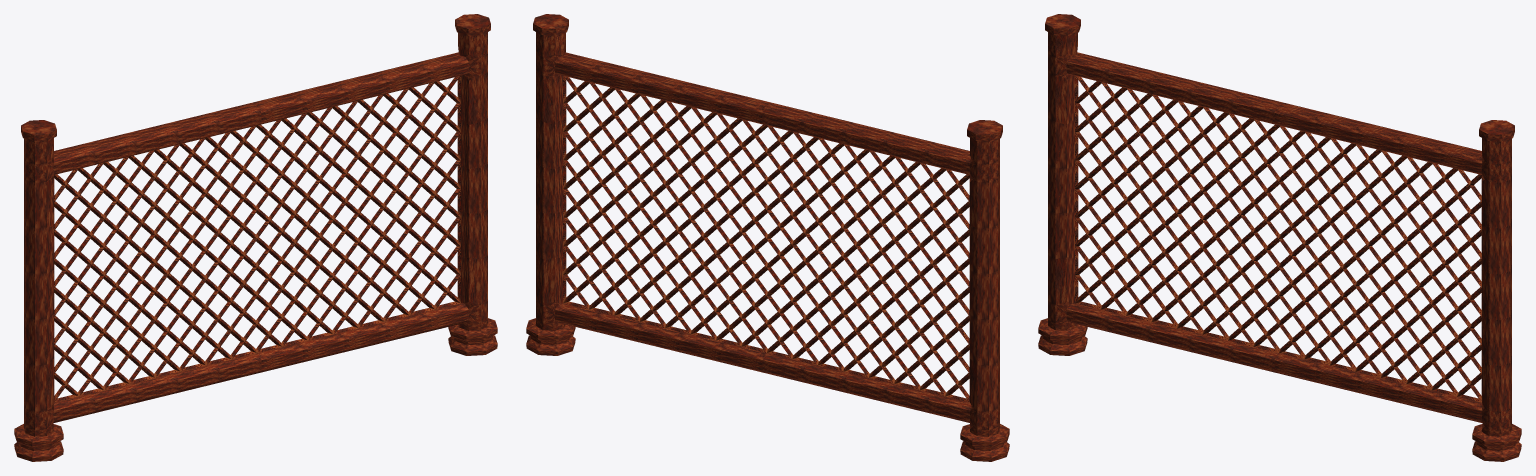
The model's file is ironwall01.fbx.
3 views of the same model, side by side, from view 1: azimuth 30°, elevation 25°; view 2: azimuth 150°, elevation 25°; view 3: azimuth 330°, elevation 25° (orthographic).
Parts seen in each view (by area): view 1: surface, fence; view 2: surface, fence; view 3: surface, fence.
Boxes of the visible parts, x1,y1,x2,y2 form: surface: [52, 76, 460, 402]; fence: [14, 14, 497, 461]; surface: [563, 76, 969, 402]; fence: [526, 14, 1009, 461]; surface: [1075, 76, 1483, 402]; fence: [1038, 14, 1521, 461].
Bounding box in the file's own units: 551 × 357 × 51.25.
